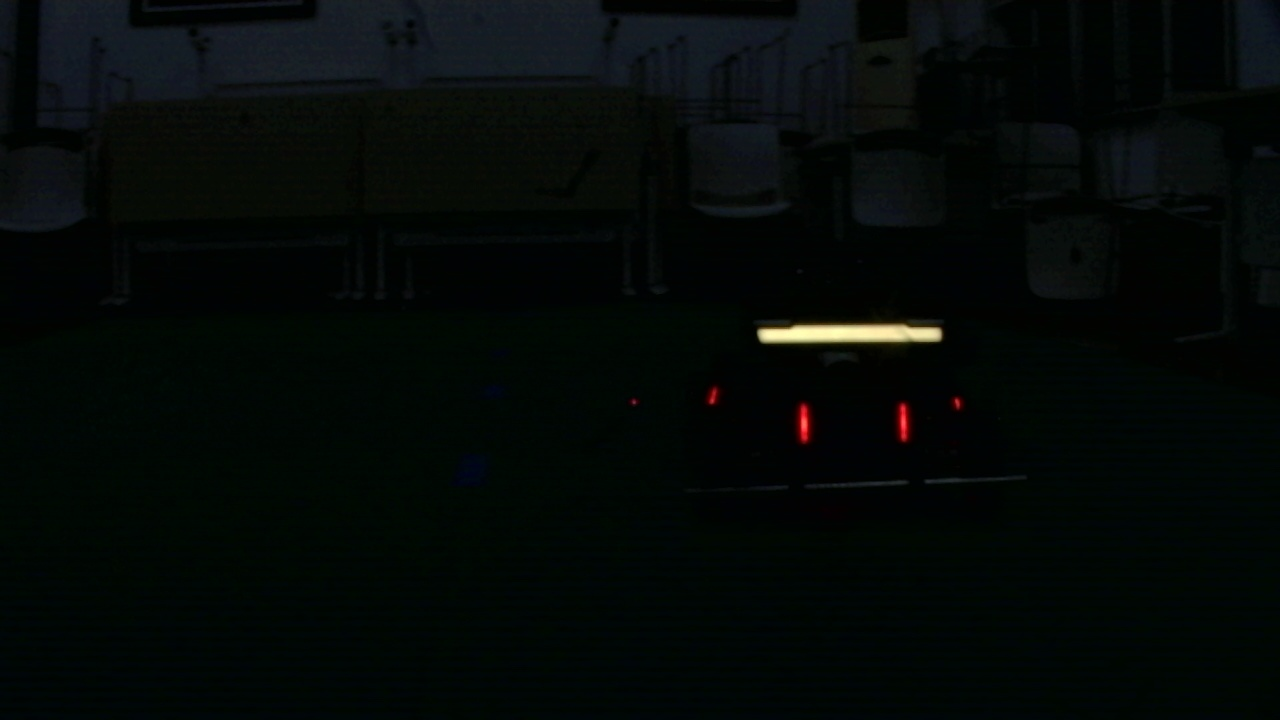lamp: (797, 398, 811, 447), (896, 406, 910, 442)
pair1: (797, 406, 911, 441)
